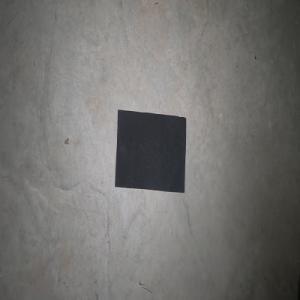PaintChip: (114, 109, 186, 192)
